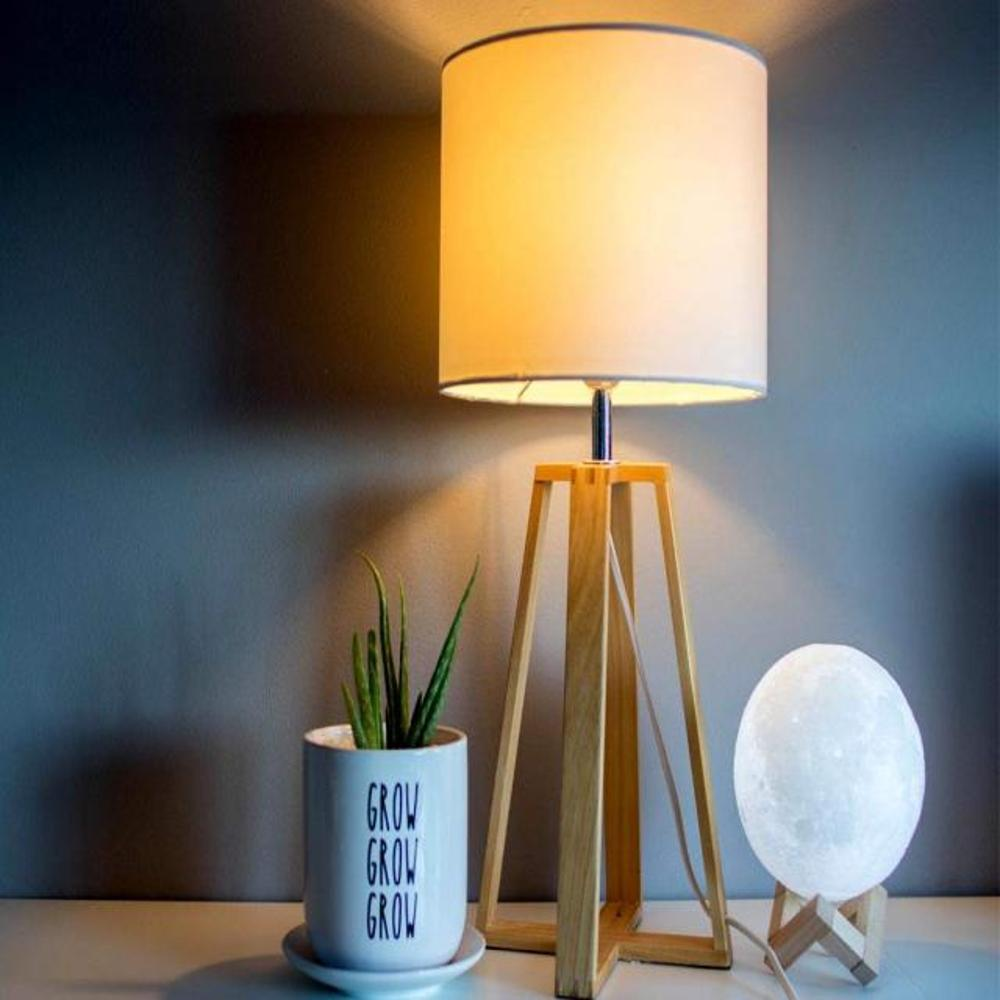shelf: (433, 18, 767, 1000)
